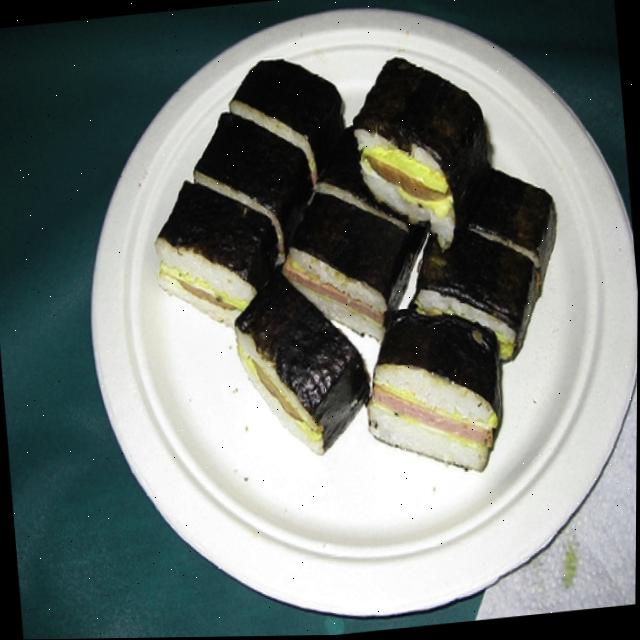寿司卷物: (24, 0, 640, 611)
